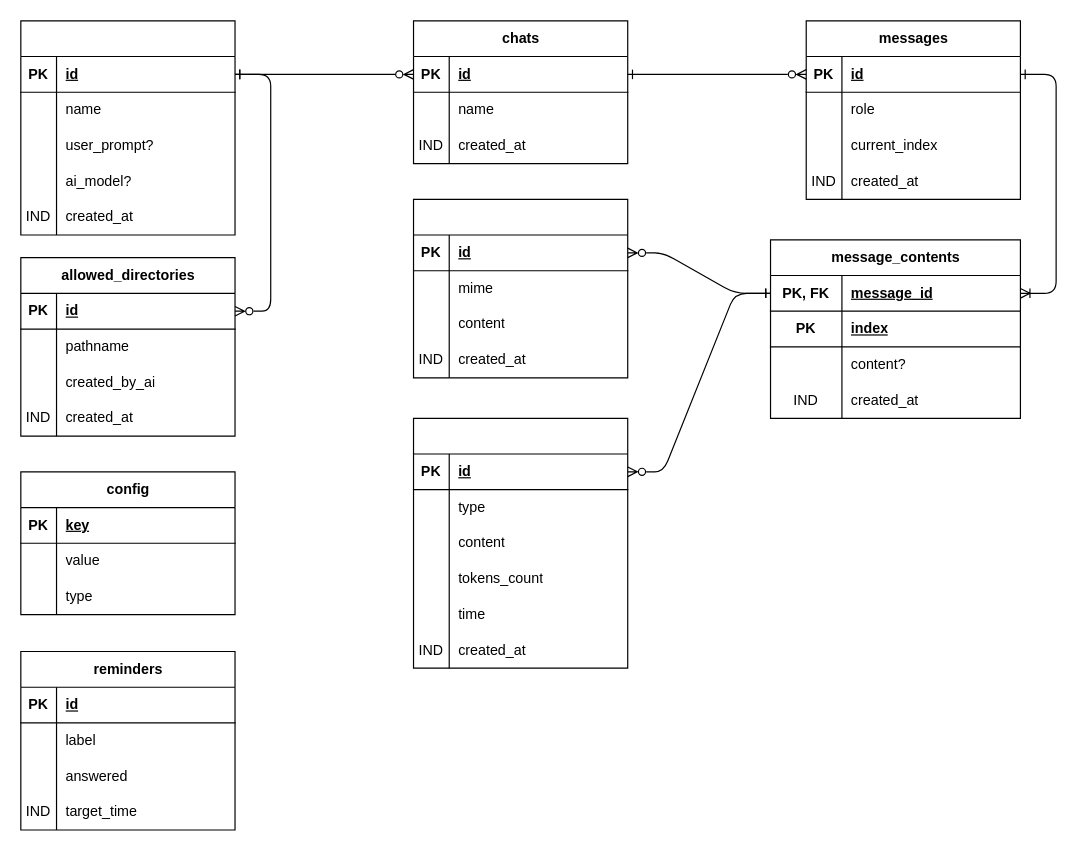
Image size: 1088x851. Some labels were removed from this diagram. The shapes that lost their labels are listed below. From the top down, each one's box as (x1, y1, x2, y2) in pixels, then its label:
(20, 20, 235, 235): vaults
(412, 198, 628, 378): message_content_files
(412, 417, 628, 668): message_content_items
